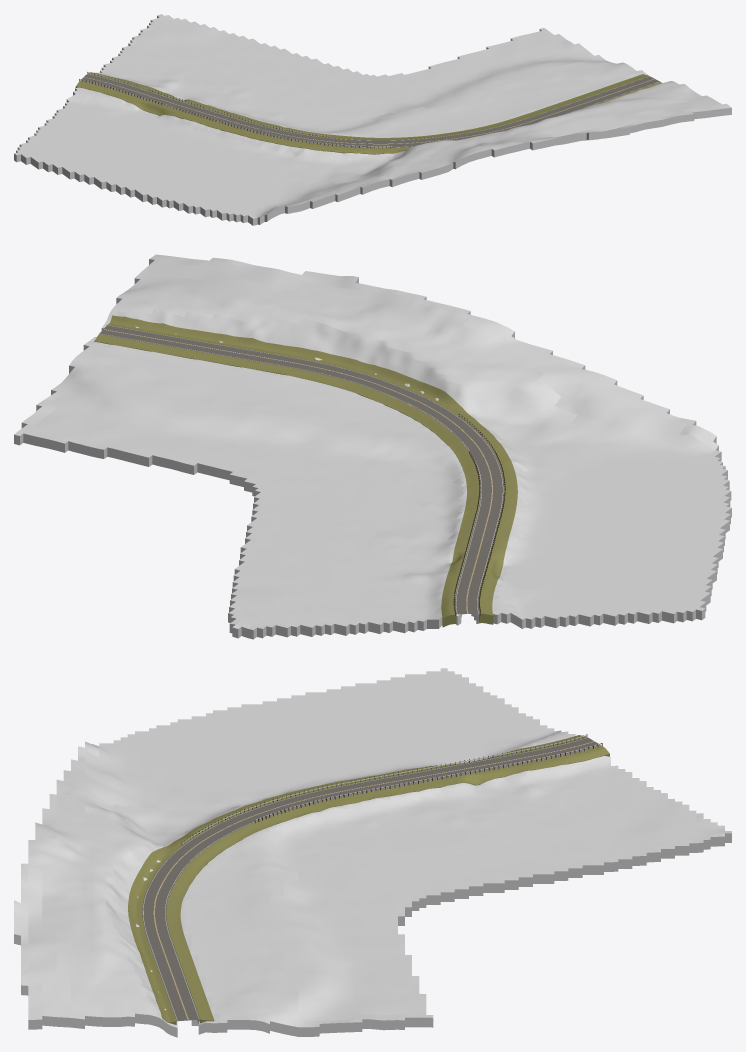
File: conz_39.glb
3 views of the same model, one above another, from view 1: azimuth 30°, elevation 25°; view 2: azimuth 150°, elevation 25°; view 3: azimuth 270°, elevation 25° (orthographic). The views are drawn at different scales.
Parts seen in each view (by area): view 1: terrain39, road39, verge39R, verge39L, paint_yellow39, beam39_30765, paint_white39; view 2: terrain39, road39, verge39R, verge39L, paint_white39, paint_yellow39; view 3: terrain39, road39, verge39L, verge39R, paint_white39, paint_yellow39, beam39_30765.
Part boxes in pixels (x1,y1,x2,y2): terrain39: [14, 14, 731, 225]; road39: [80, 74, 660, 147]; verge39R: [75, 80, 661, 154]; verge39L: [87, 72, 648, 140]; paint_yellow39: [84, 77, 654, 144]; beam39_30765: [80, 79, 392, 146]; paint_white39: [81, 74, 657, 147]; terrain39: [14, 254, 731, 639]; road39: [99, 325, 503, 614]; verge39R: [107, 315, 517, 624]; verge39L: [94, 334, 480, 627]; paint_white39: [100, 325, 503, 613]; paint_yellow39: [104, 329, 492, 613]; terrain39: [14, 668, 731, 1037]; road39: [142, 737, 601, 1021]; verge39L: [166, 745, 609, 1023]; verge39R: [128, 735, 586, 1024]; paint_white39: [143, 737, 600, 1020]; paint_yellow39: [153, 741, 594, 1020]; beam39_30765: [182, 734, 587, 844].
Bounding box in the file's own units: 252 × 18.1 × 202.
